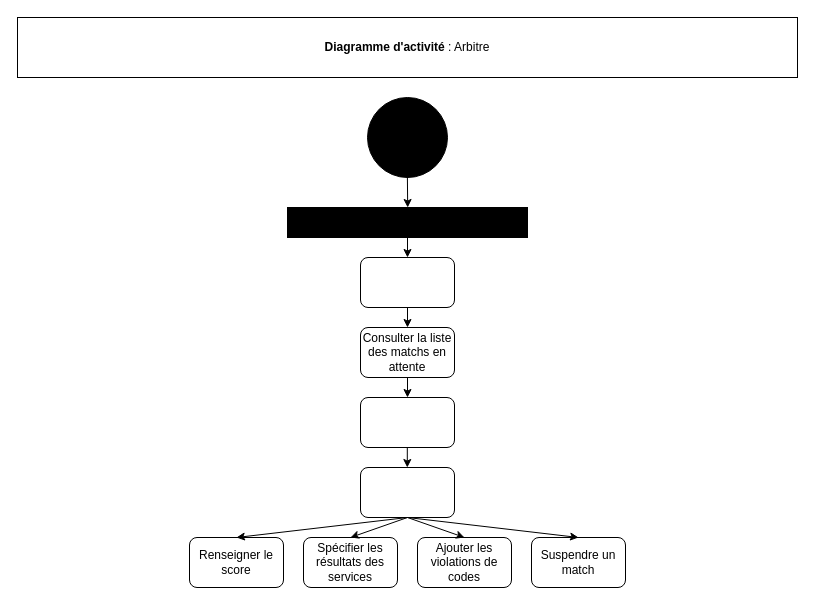
Image size: 815x605. Some labels were removed from this diagram. Here are the shapes that lost their labels. From the top down, the centre of each, then its label:
At pixel 407 282: "Se connecter".
At pixel 407 422: "Sélectionner le match à arbitrer".
At pixel 407 492: "Séléctionner le 1er serveur et les côtés".
